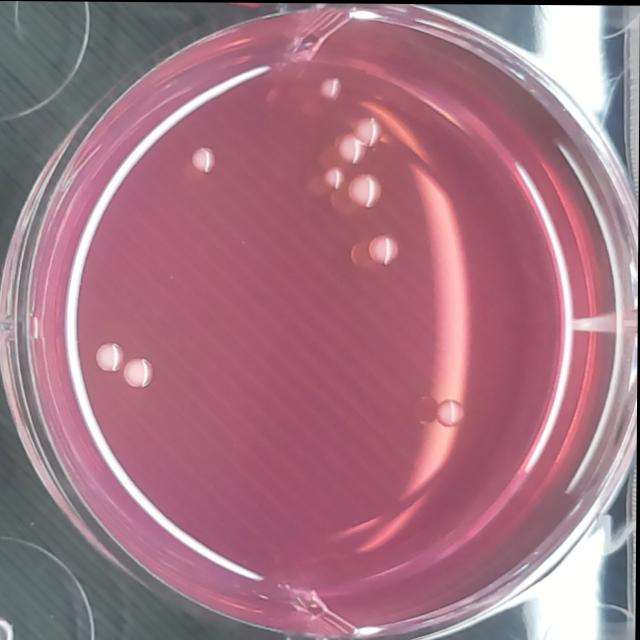Bacillus: (345, 171, 386, 211), (360, 232, 402, 269), (120, 353, 160, 391), (432, 397, 471, 431), (91, 338, 127, 374), (347, 115, 385, 147), (185, 142, 220, 176), (331, 131, 367, 162), (314, 74, 345, 103), (320, 164, 347, 191)
